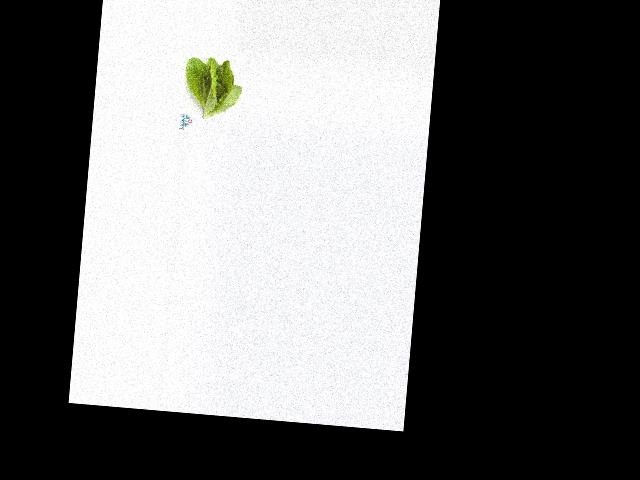lettuce: (183, 53, 245, 121)
